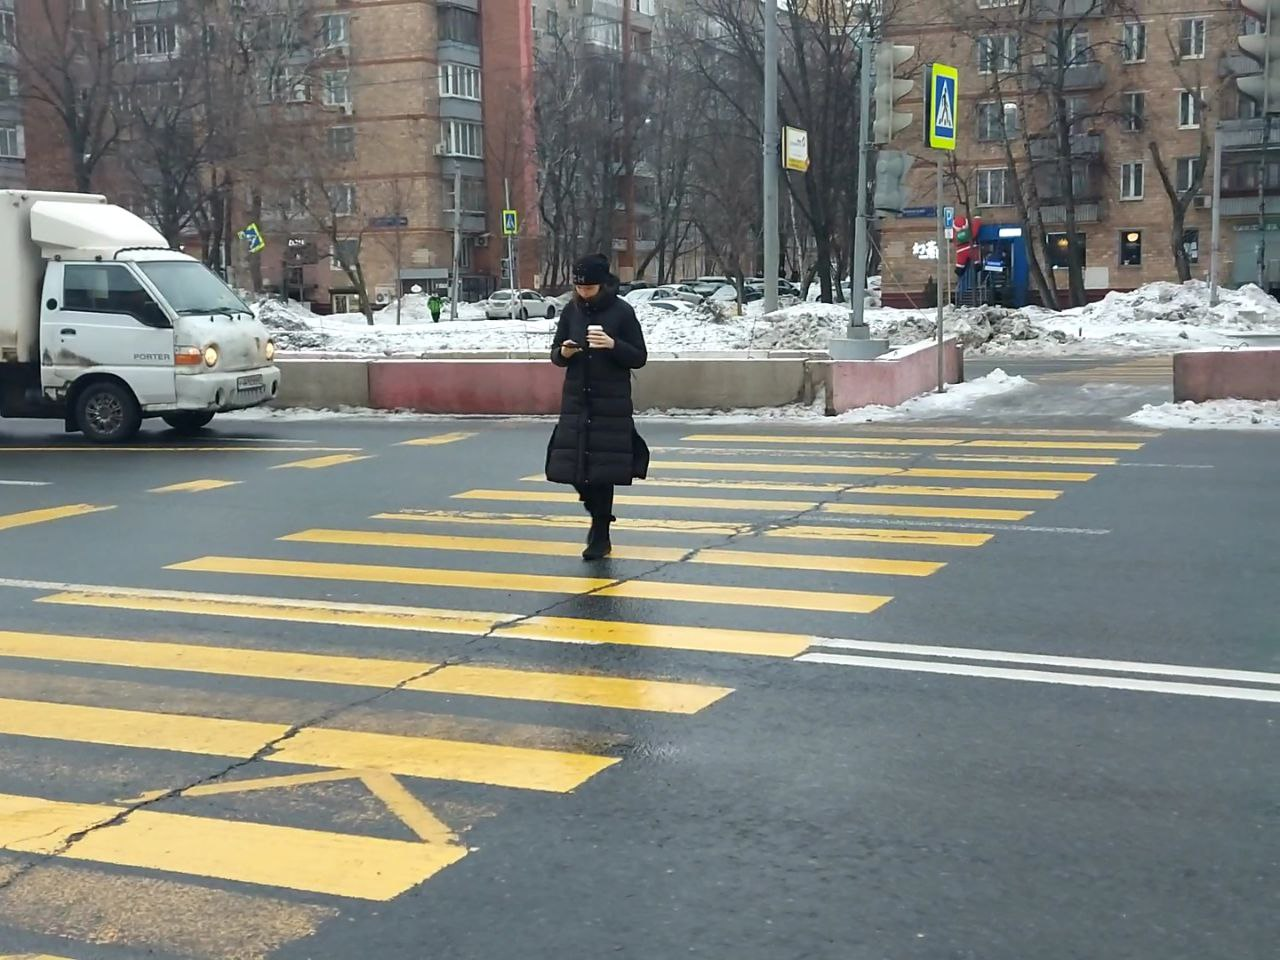sombie: (533, 249, 665, 570)
